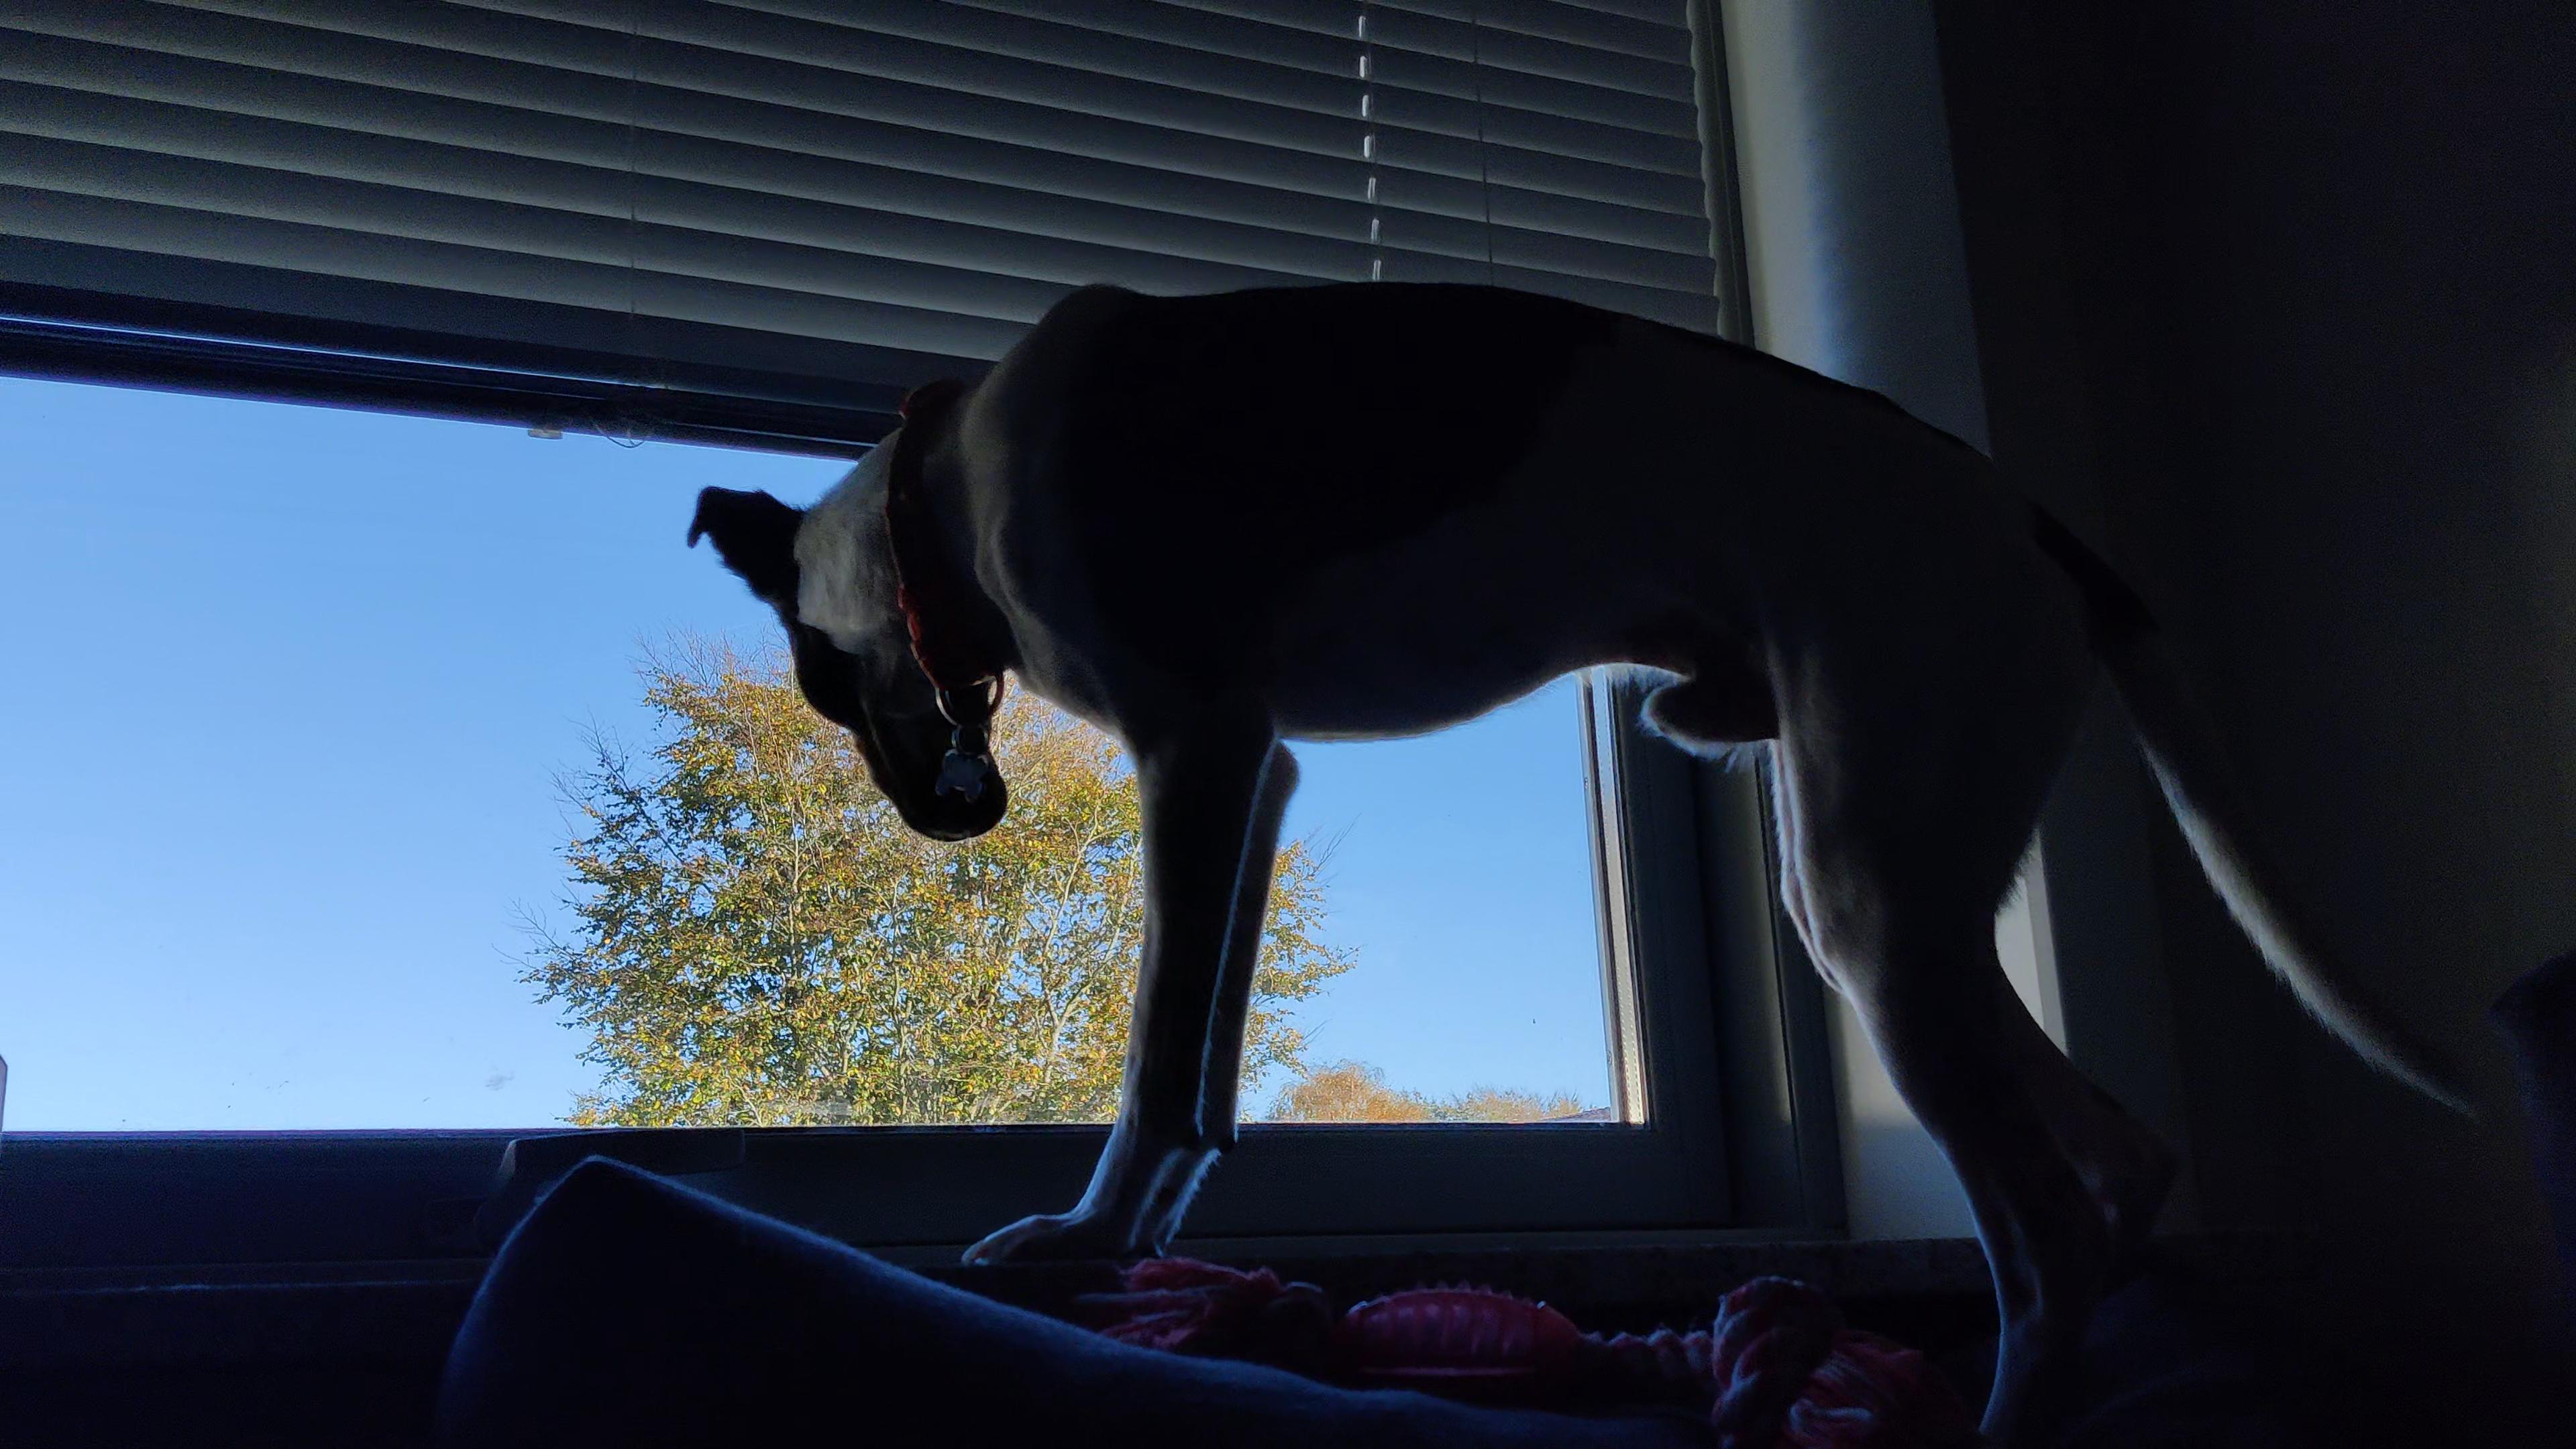Dog: (665, 249, 2511, 1449)
